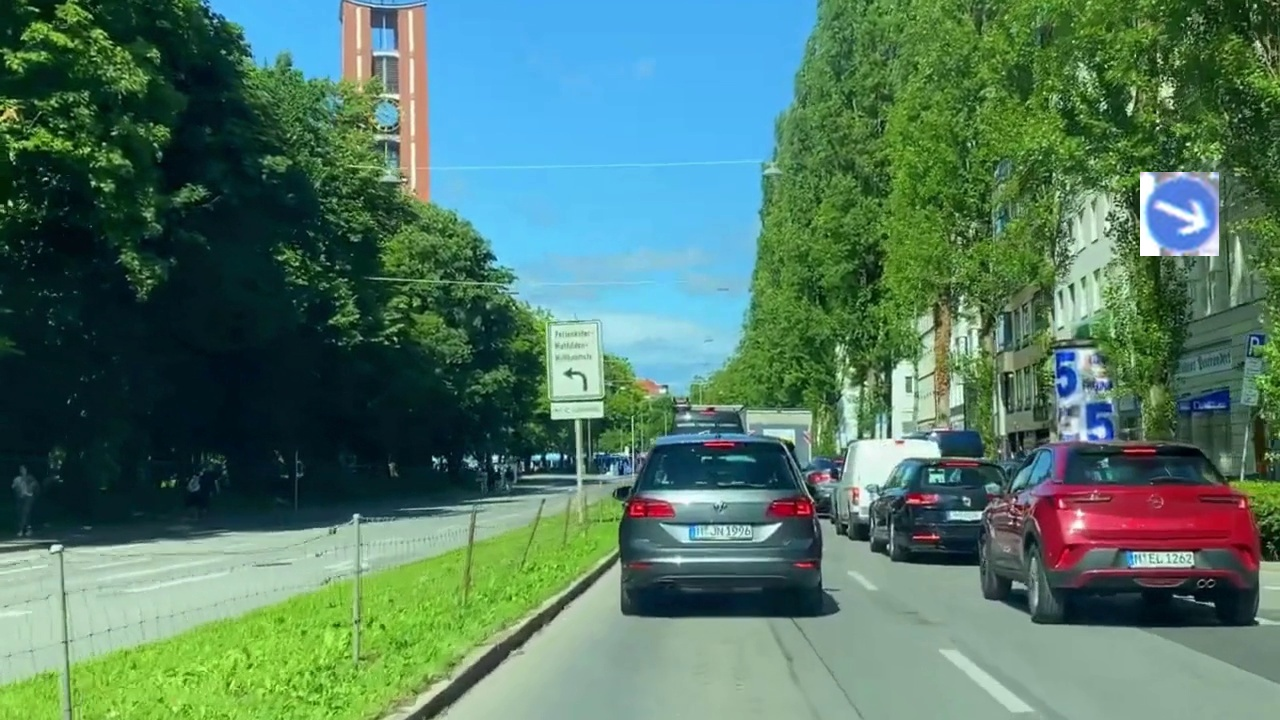Keep right: (1140, 172, 1219, 256)
